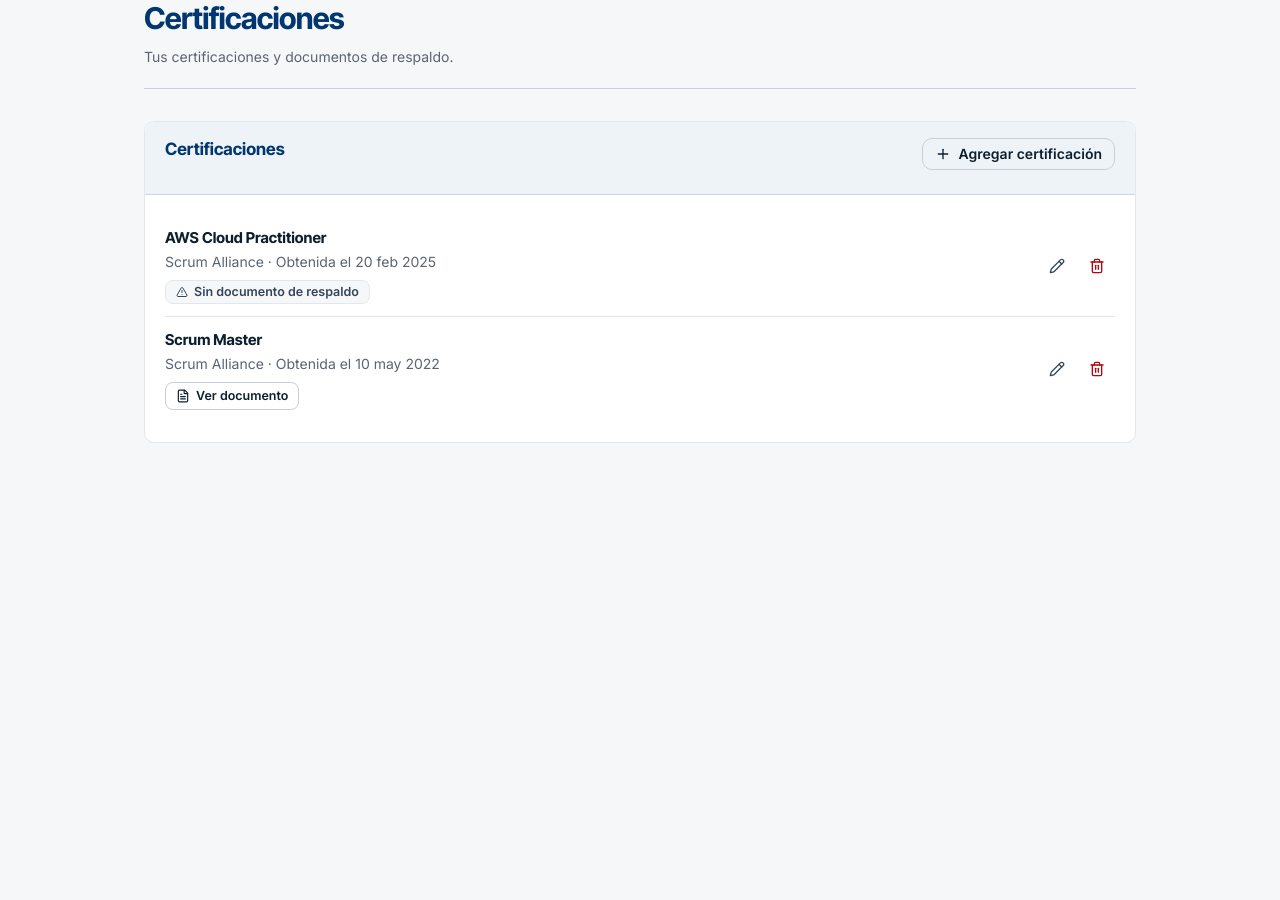
Test case: CertificationsView › opens another record only after the first editor has been closed
Click the button named "Editar Scrum Master" at (1057,369), box [1039,351,1075,387]
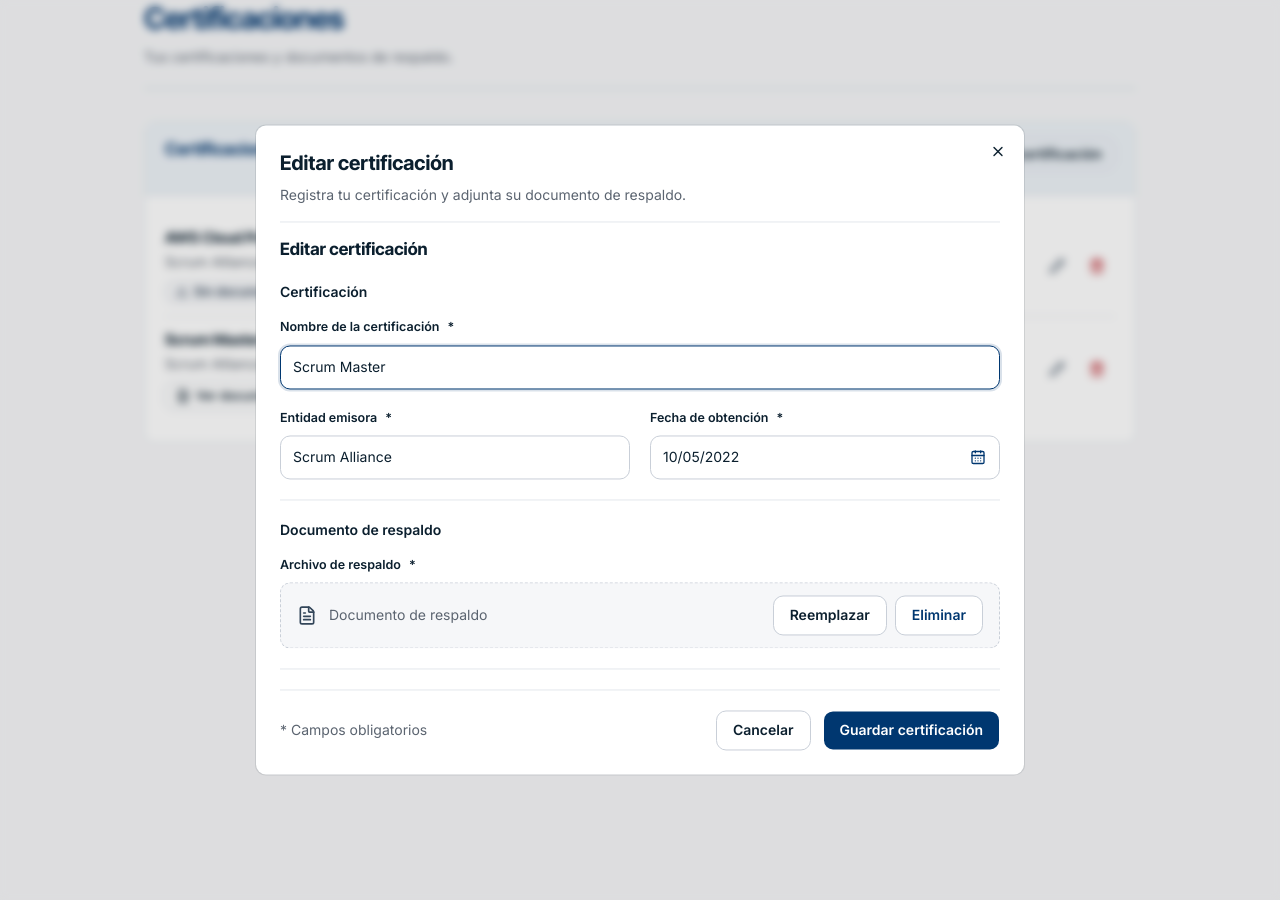
Type " extra" into the field labelled "Nombre de la certificación *" at (640,367), box [280,345,1000,389]
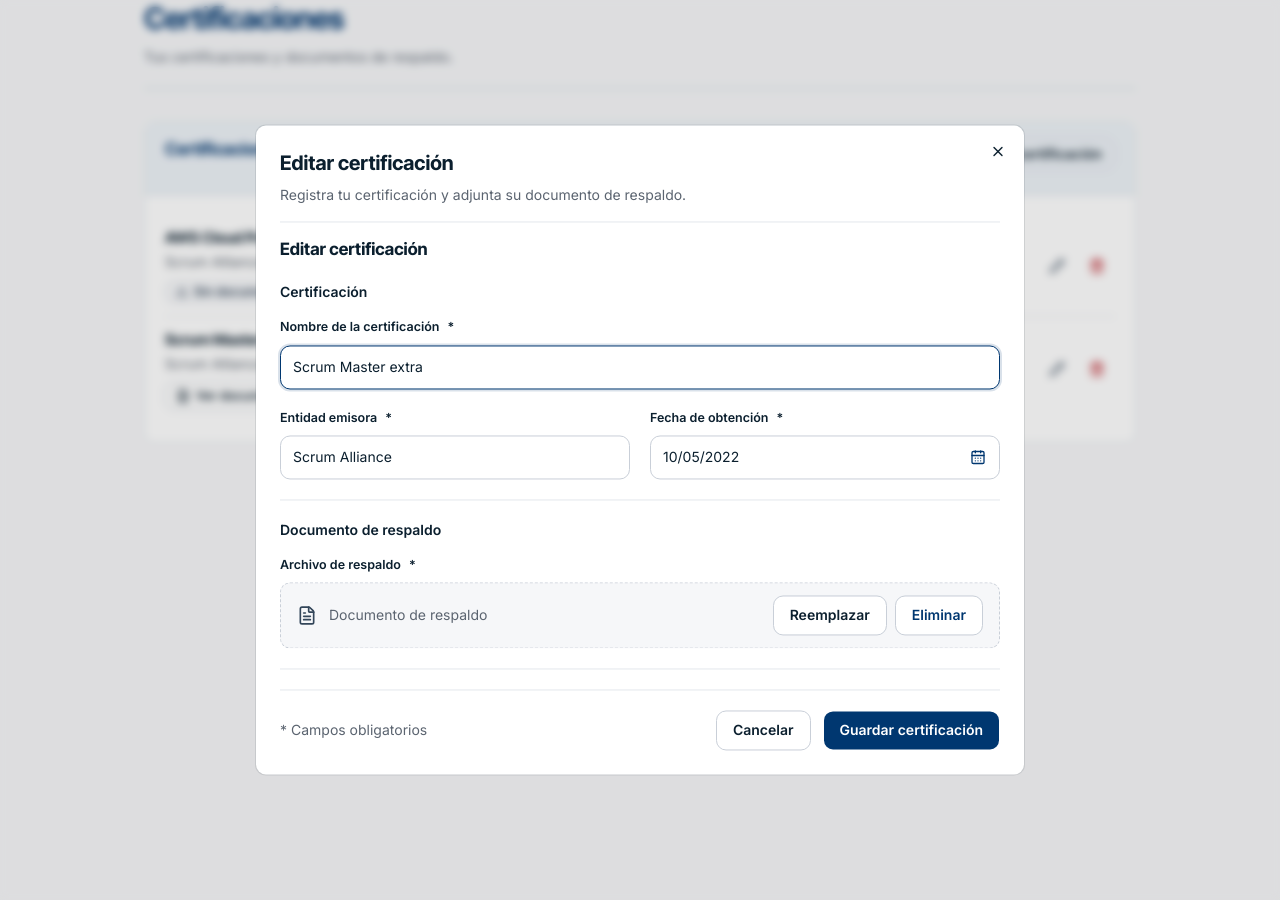
Click the button "Cancelar" at (763,730), box [716,710,810,750]
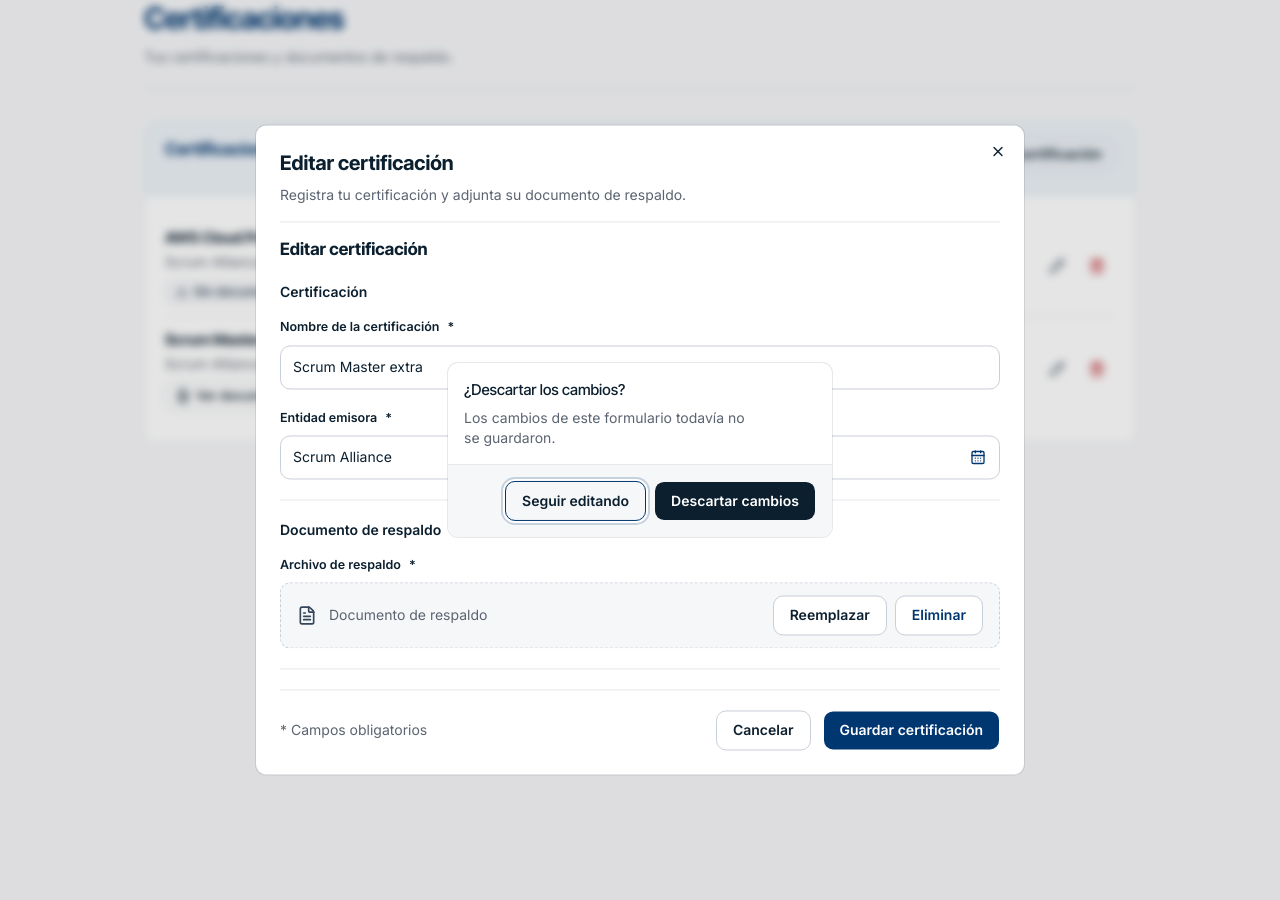
Click the button "Descartar cambios" at (735,501), box [654,481,816,521]
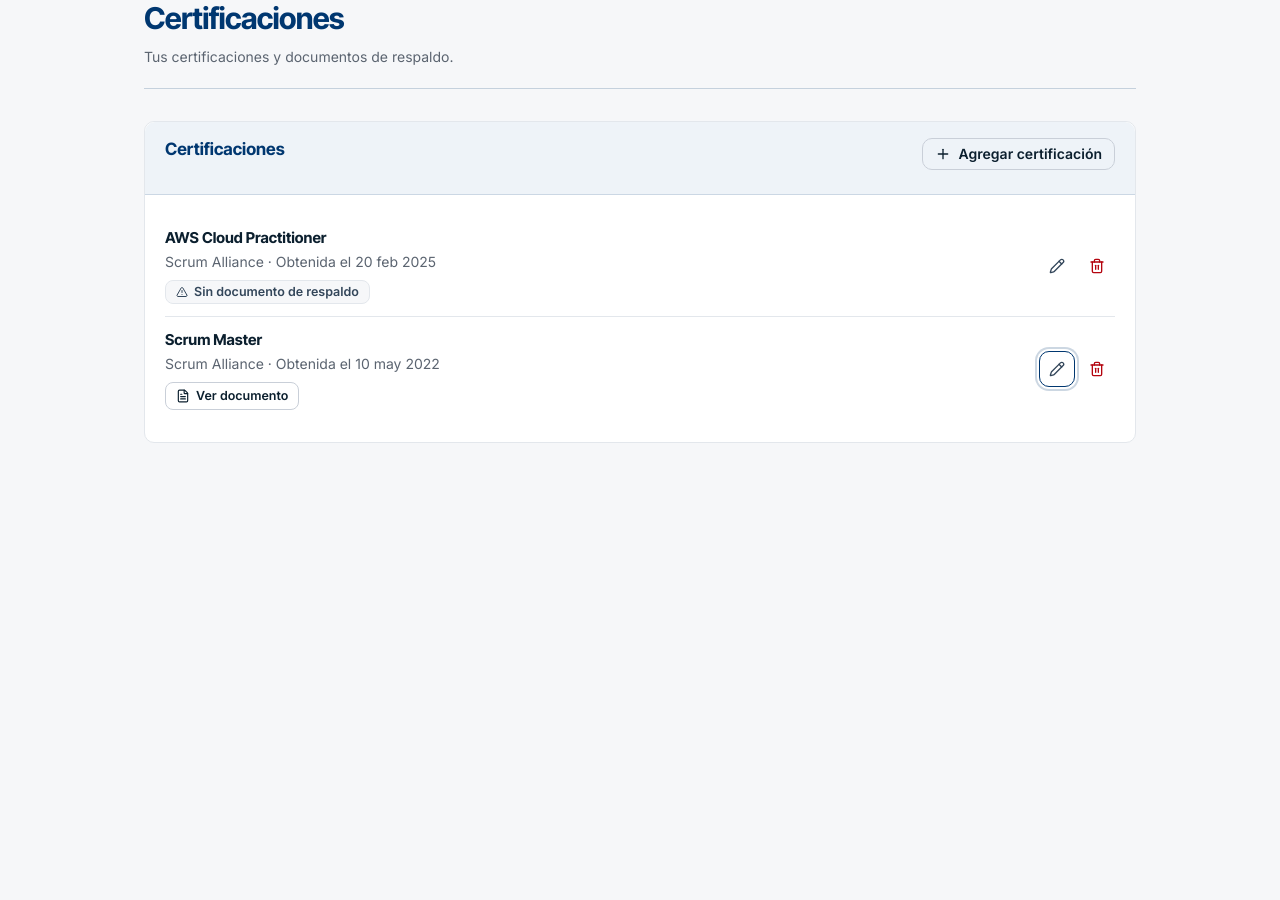
Click the button named "Editar AWS Cloud Practitioner" at (1057,266), box [1039,248,1075,284]
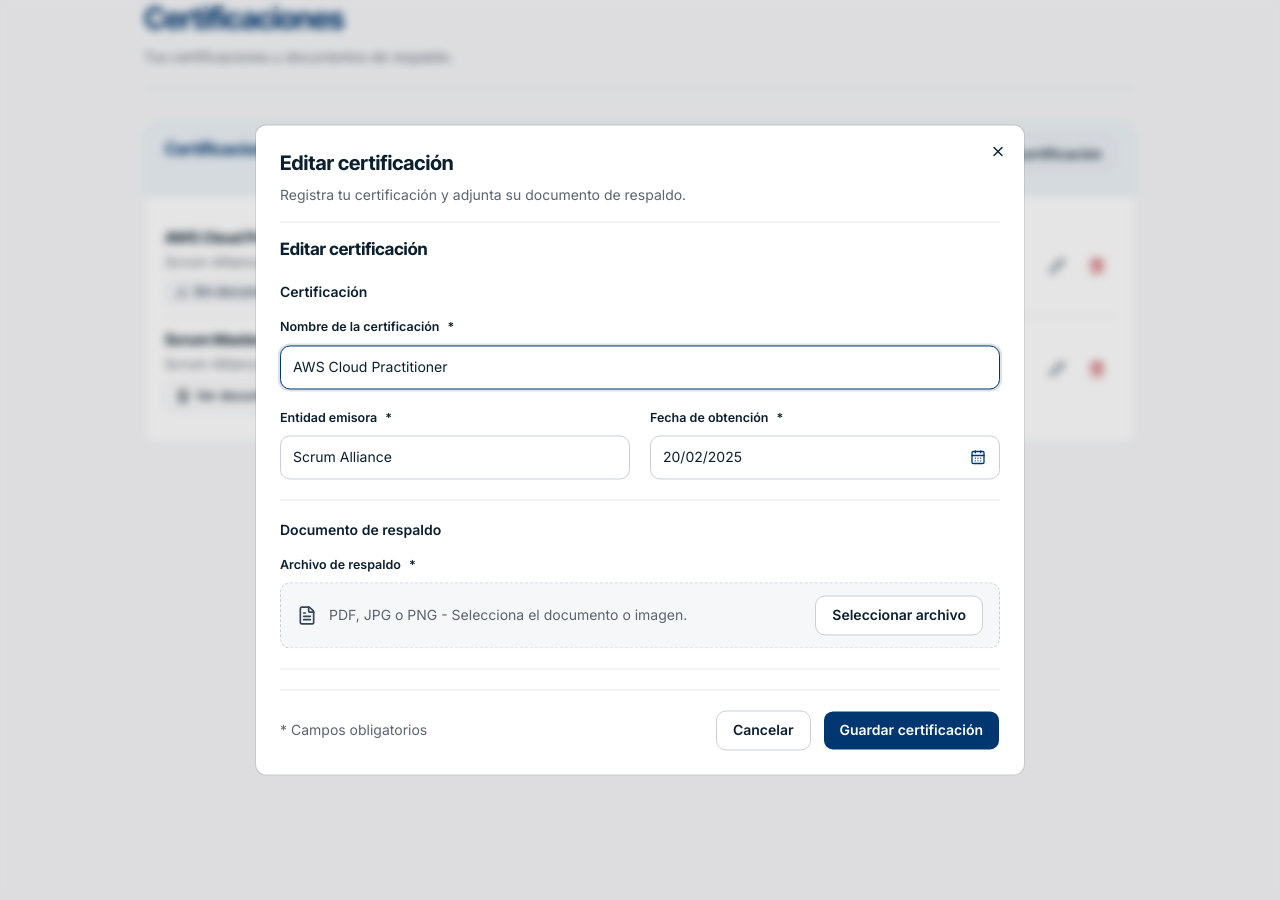
Check: the field labelled "Nombre de la certificación *" holds "AWS Cloud Practitioner", box [280,345,1000,389]
